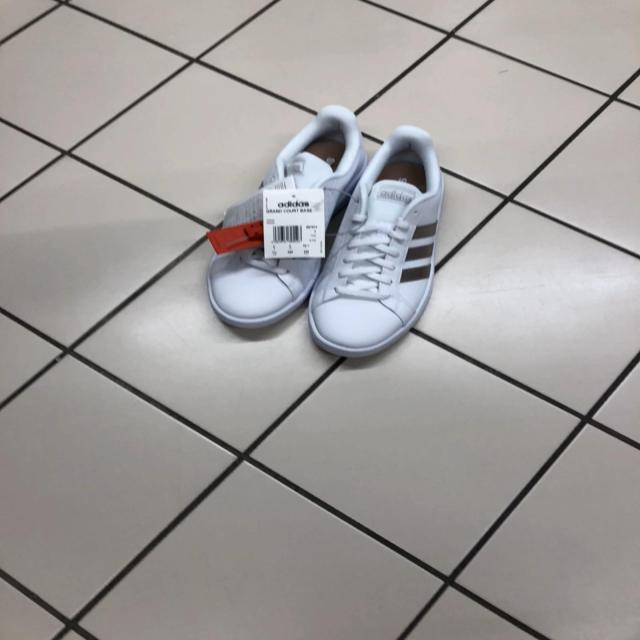shoe: (206, 106, 368, 340), (307, 125, 446, 362)
